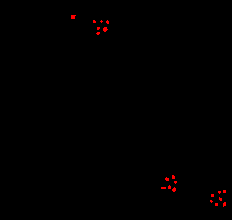Target: (103, 27, 108, 32), (71, 15, 76, 19), (172, 187, 176, 192), (165, 177, 169, 181), (223, 202, 226, 207), (106, 20, 109, 24), (96, 32, 100, 35), (172, 175, 175, 179), (168, 185, 171, 189), (219, 197, 222, 201), (161, 187, 166, 189), (93, 20, 96, 23), (100, 20, 103, 23), (97, 27, 100, 30), (174, 181, 177, 184), (223, 190, 226, 193), (218, 191, 221, 194), (211, 194, 214, 197), (210, 200, 213, 203), (215, 203, 218, 206)
